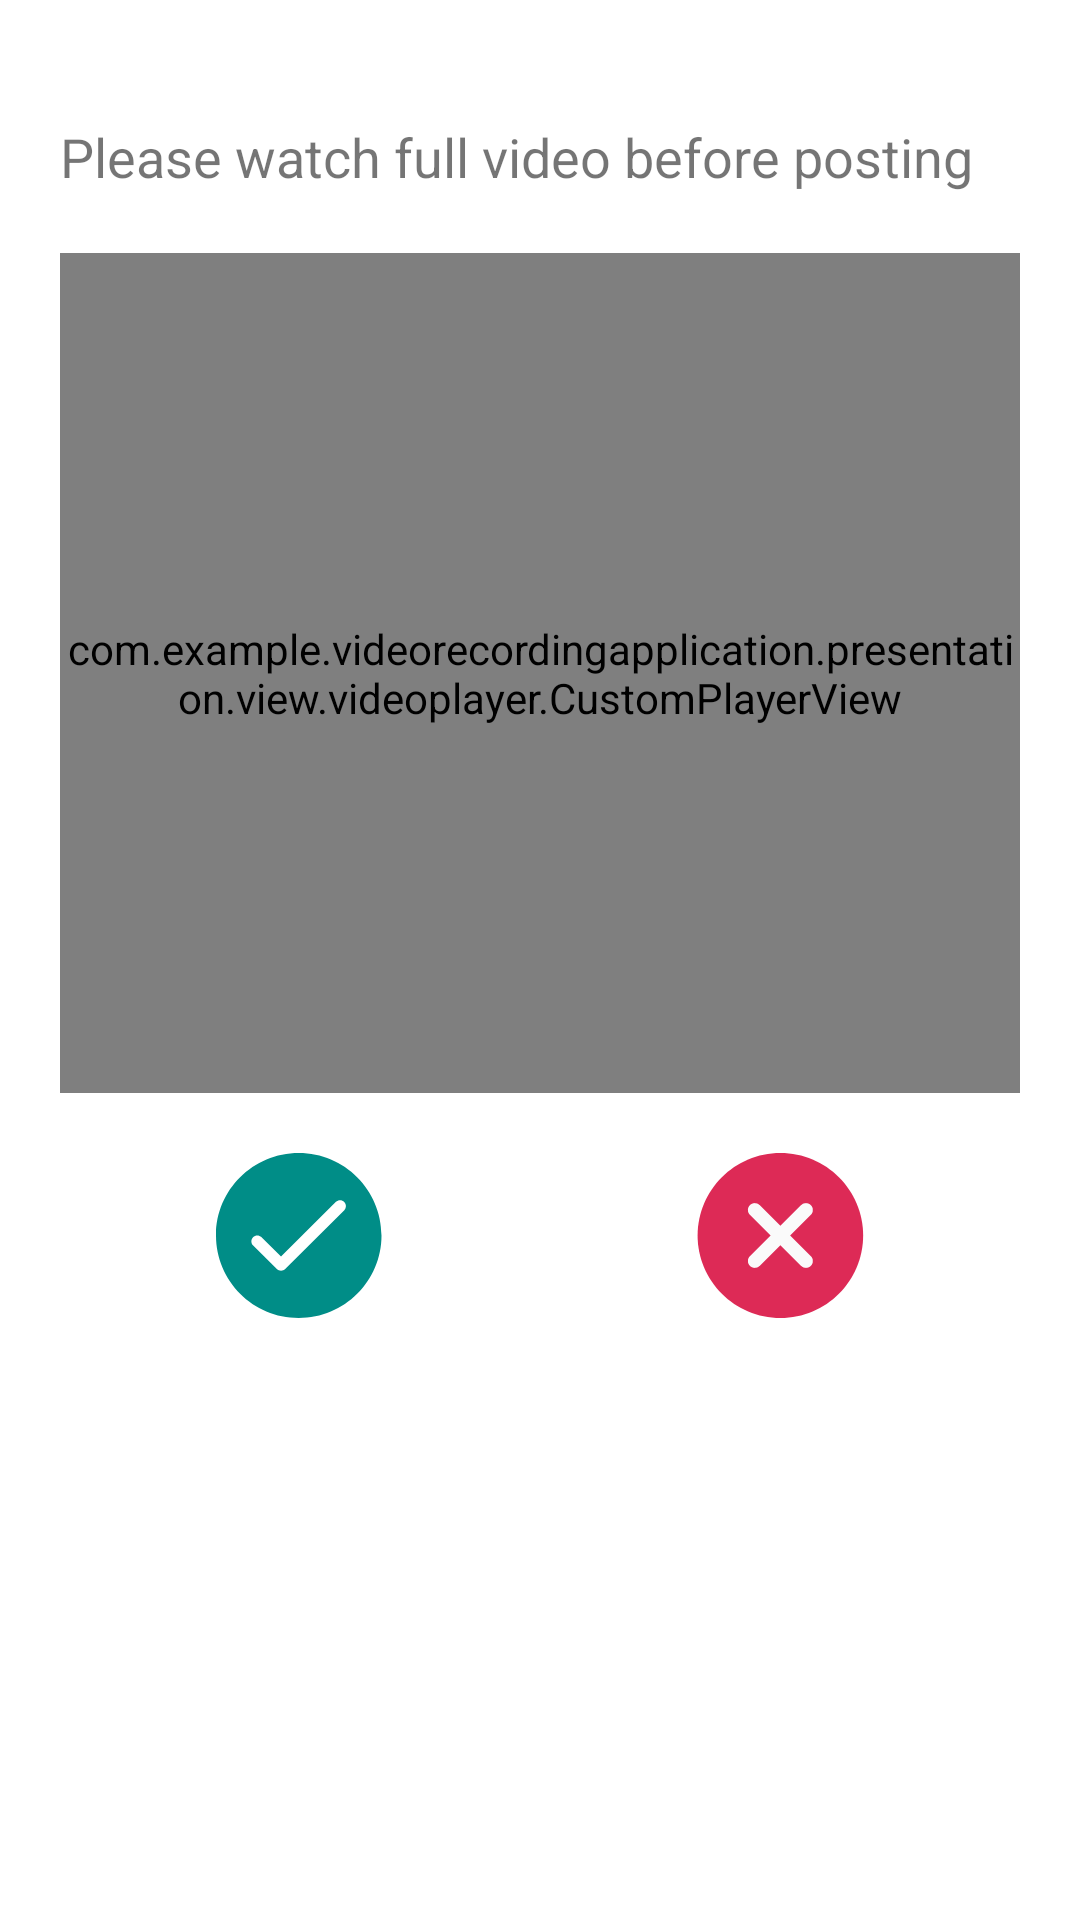

Icon bounding boxes for this 1080x1920 phone screenshot, format (x1, y1, x2, y2):
criss cross: (697, 1153, 864, 1318)
tick: (216, 1153, 382, 1318)
